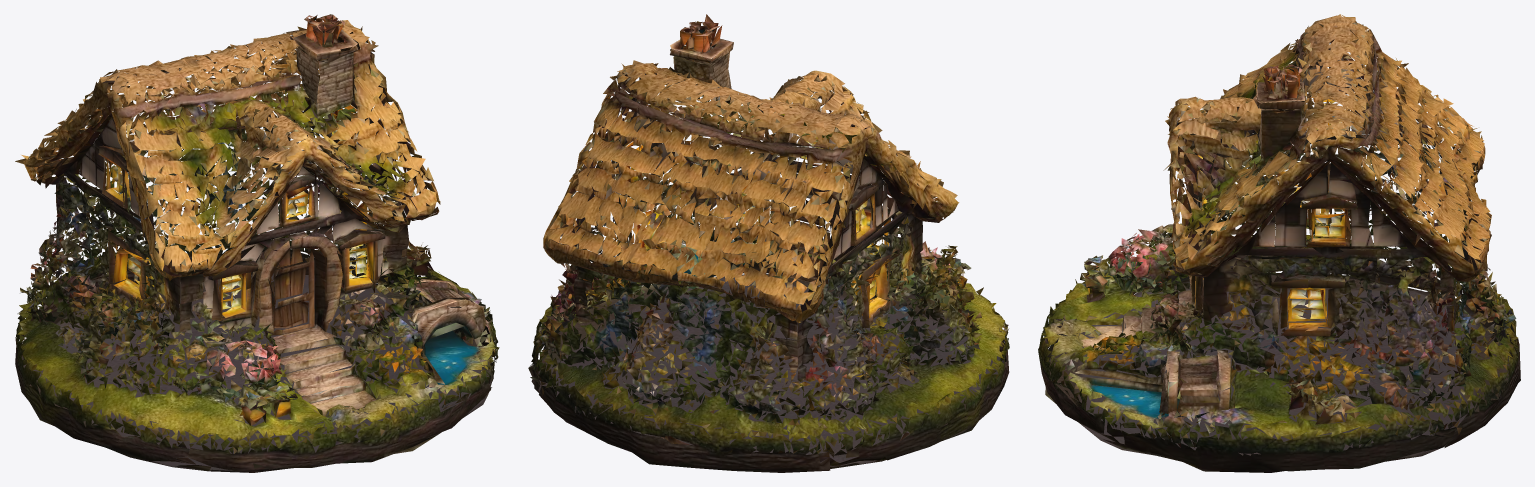
The model's file is Enchanted_Thatch_Cott_town.glb.
The picture shows the model from 3 angles, left to right: view 1: azimuth 30°, elevation 25°; view 2: azimuth 150°, elevation 25°; view 3: azimuth 270°, elevation 25°; orthographic projection.
Parts seen in each view (by area): view 1: Enchanted_Thatch_Cott; view 2: Enchanted_Thatch_Cott; view 3: Enchanted_Thatch_Cott.
Part boxes in pixels (x1,y1,x2,y2): Enchanted_Thatch_Cott: (15, 14, 499, 472); Enchanted_Thatch_Cott: (528, 14, 1009, 472); Enchanted_Thatch_Cott: (1038, 14, 1520, 472).
Bounding box in the file's own units: 1.9 × 1.49 × 1.89.
Materials: 1 (1 with a texture image).
